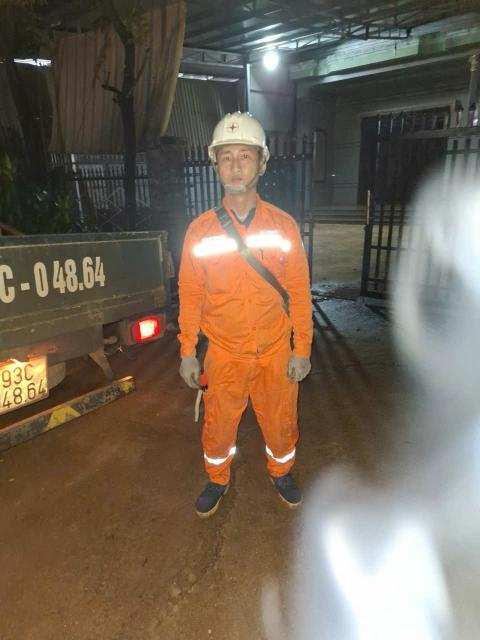gloves: (162, 341, 225, 402), (269, 341, 326, 398)
helmet: (195, 99, 281, 172)
shoes: (172, 465, 244, 528), (264, 465, 315, 526)
